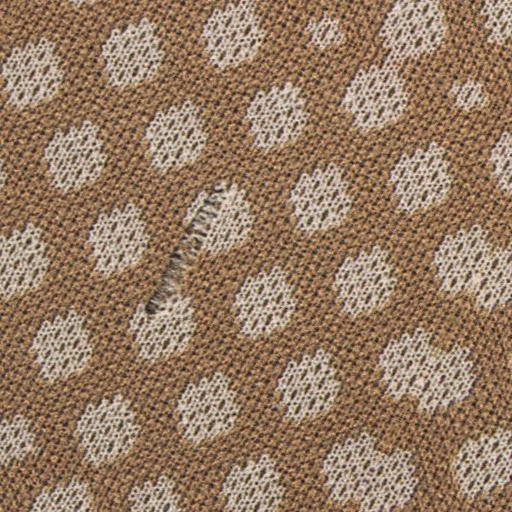slub: (140, 178, 253, 330)
